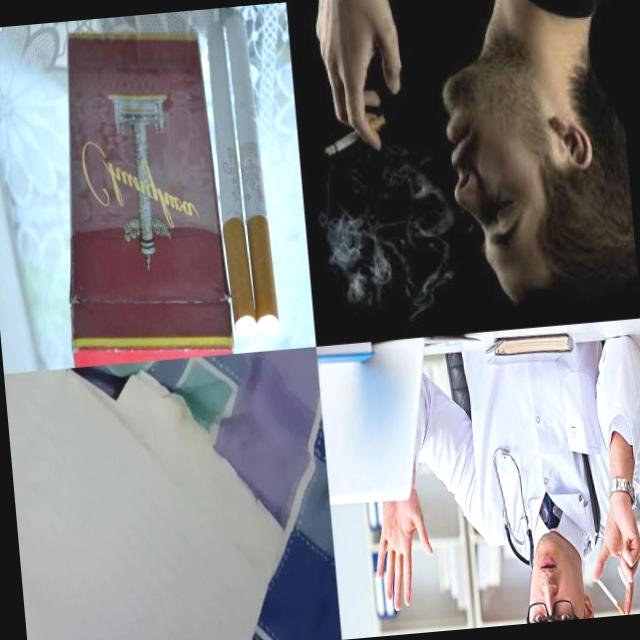cigarette: (224, 13, 280, 336), (204, 22, 256, 338), (322, 113, 388, 155), (596, 576, 628, 616)
